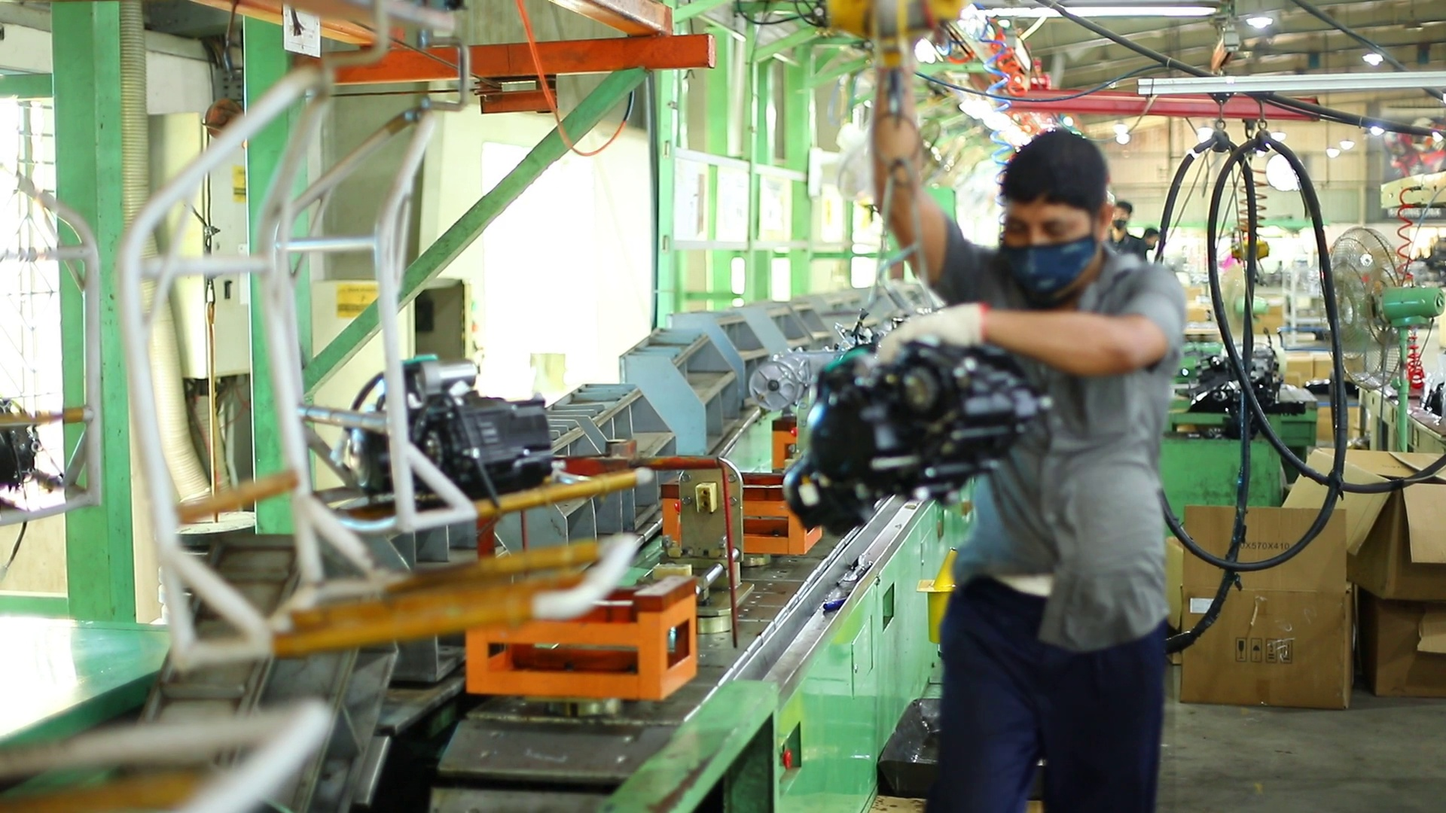mask: (994, 234, 1098, 300)
person: (859, 115, 1183, 813), (1106, 202, 1152, 262), (1143, 227, 1159, 253)
